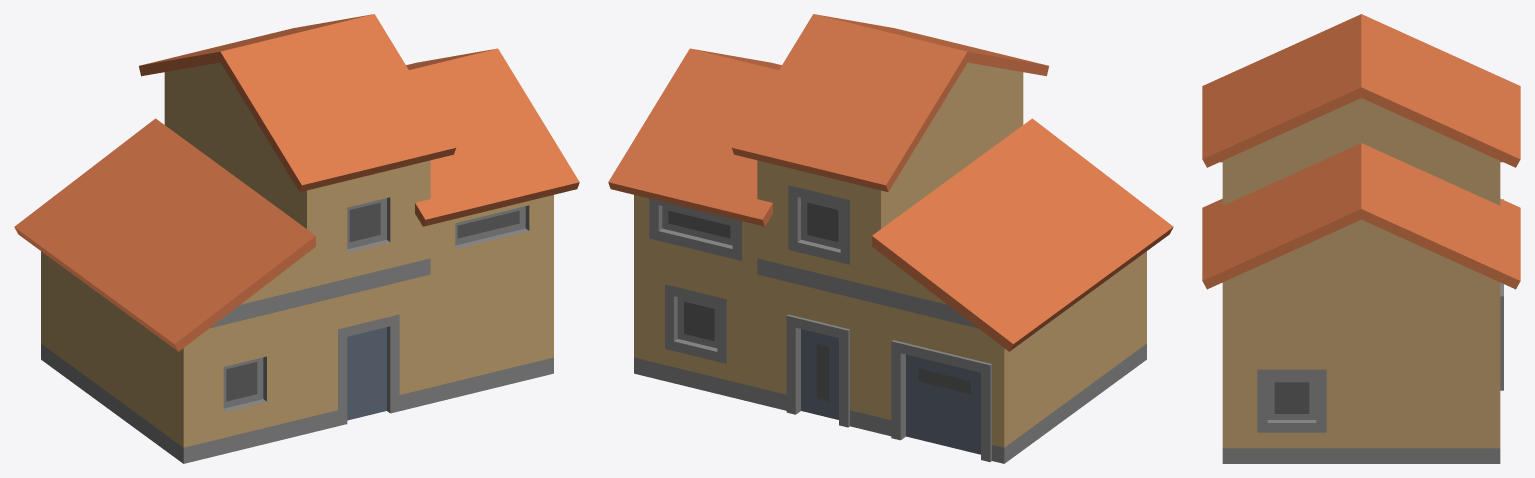
File: SM_Suburb_House_013.fbx
3 renders of one model, left to right at view 1: azimuth 30°, elevation 25°; view 2: azimuth 150°, elevation 25°; view 3: azimuth 270°, elevation 25°, orthographic. The views are drawn at different scales.
Parts seen in each view (by area): view 1: SM_Suburb_House_013; view 2: SM_Suburb_House_013; view 3: SM_Suburb_House_013.
Boxes of the visible parts, x1=… form: SM_Suburb_House_013: x1=14, y1=14, x2=579, y2=463; SM_Suburb_House_013: x1=608, y1=14, x2=1173, y2=463; SM_Suburb_House_013: x1=1202, y1=14, x2=1520, y2=463.
Size of the model in its own units: 942 by 744 by 660.
